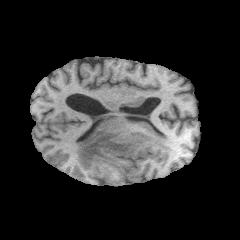glioma: (76, 128, 173, 176)
